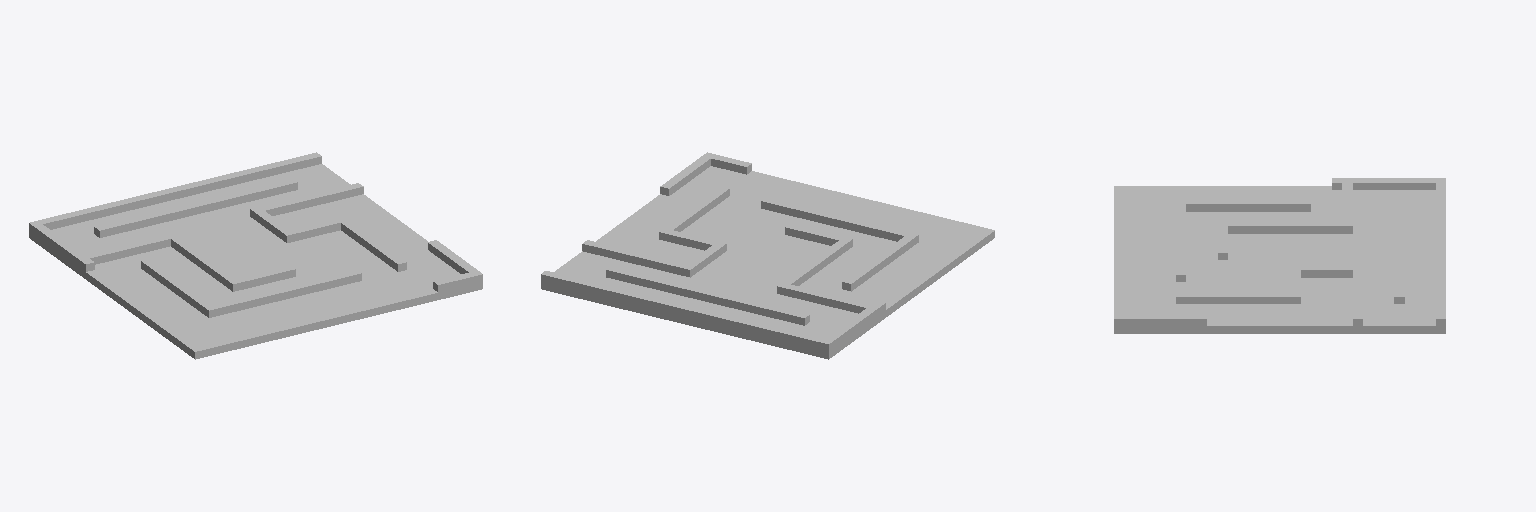
File: labyrinth.obj
The picture shows the model from 3 angles: view 1: azimuth 30°, elevation 25°; view 2: azimuth 150°, elevation 25°; view 3: azimuth 270°, elevation 25°; orthographic projection.
Visible parts, largest first — view 1: Cube_Cube.002; view 2: Cube_Cube.002; view 3: Cube_Cube.002.
Part boxes in pixels (x1,y1,x2,y2): Cube_Cube.002: (29,152,482,359); Cube_Cube.002: (541,152,994,359); Cube_Cube.002: (1114,178,1445,333).
Bounding box in the file's own units: 40 × 2 × 40.